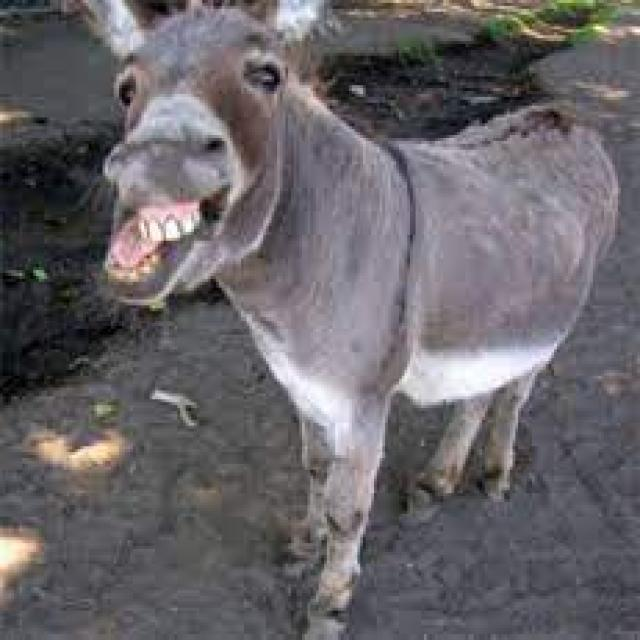donkey: (93, 0, 606, 606)
